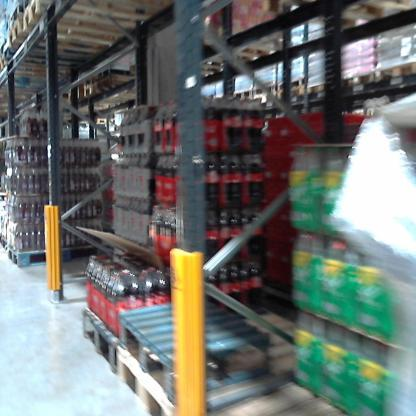pallets: (121, 298, 386, 416), (81, 309, 177, 413), (231, 73, 333, 117), (0, 237, 89, 284)
